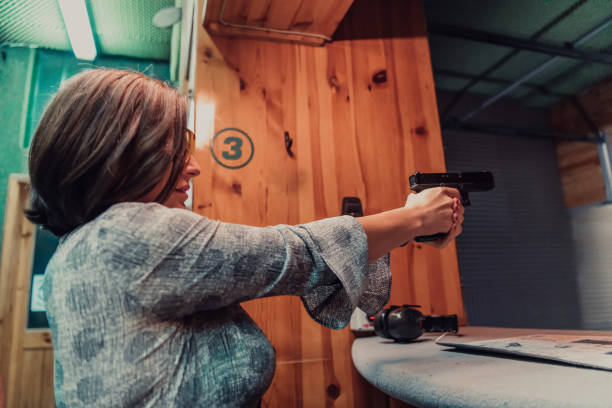gun: (409, 170, 496, 243)
